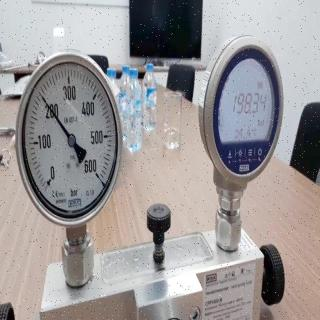gauge: (15, 49, 123, 235), (82, 158, 108, 190), (40, 172, 58, 192), (67, 134, 75, 146), (40, 94, 46, 101)
